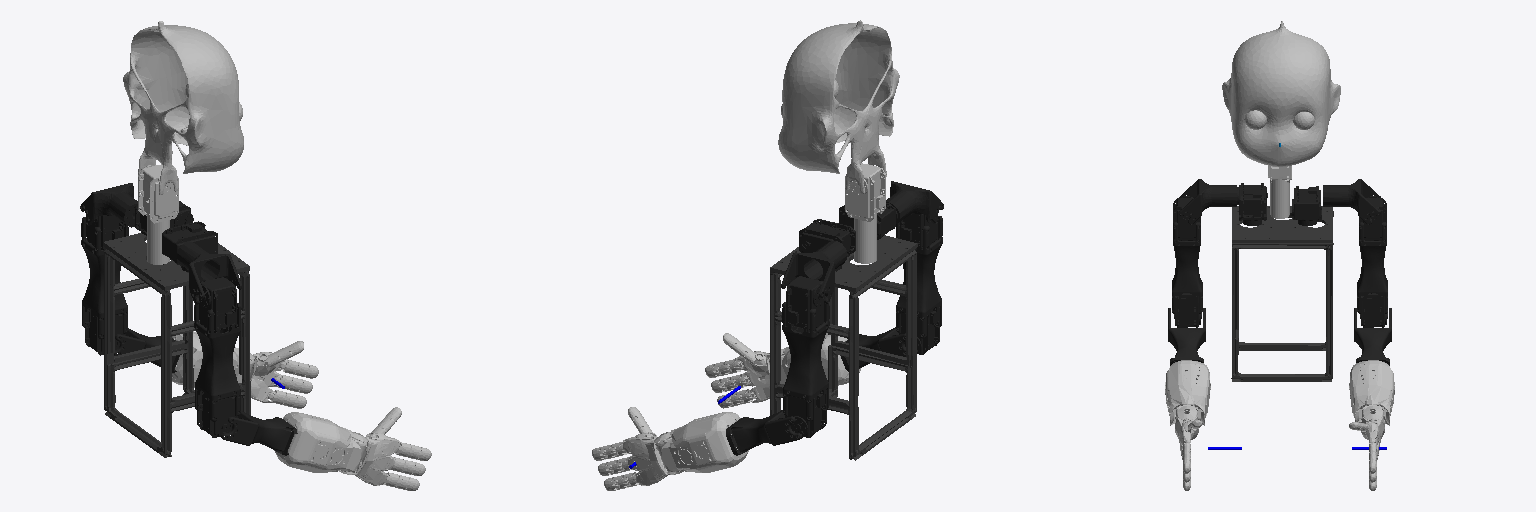
robot.urdf — nico_upper_rh6d:
<?xml version="1.0" ?>
<!-- =================================================================================== -->
<!-- |    This document was manually created   and the meshes resized and repositioned | -->
<!-- |    EDITING THIS FILE BY HAND IS NOT RECOMMENDED                                 | -->
<!-- =================================================================================== -->
<!--
  Copyright (c) 2023, [author]
  All rights reserved.

  This work is licensed under the Creative Commons Attribution-NonCommercial-NoDerivs 3.0 Unported License.
  To view a copy of this license, visit http://creativecommons.org/licenses/by-nc-nd/3.0/ or send a letter to
  Creative Commons, 444 Castro Street, Suite 900, Mountain View, California, 94041, USA.
-->
<robot name="nico_upper_rh6d">
	<link name="world" />
	<link name="torso">
		<visual>
			<geometry>
				<mesh filename="mesh/torso.stl"/>
			</geometry>
			<origin rpy="0 0 0" xyz="0.0 0.0 0.0"/>
			<material name="torso_color">
				<color rgba="0.270588 0.270588 0.270588 1"/>
			</material>
		</visual>
		<inertial>
			<mass value="0.090439"/>
			<inertia ixx="0.00006" ixy="-0" ixz="-0" iyy="0.000056" iyz="-0.000001" izz="0.000019"/>
			<origin rpy="0 0 0" xyz="0 0.000266 0.050352"/>
		</inertial>

	</link>
	<joint name="world_to_base_link" type="fixed">
    	<parent link="world"/>
    	<child link="torso"/>
  	</joint>
    <link name="neck">
		<visual>
			<geometry>
				<mesh filename="mesh/neck.stl"/>
			</geometry>
			<origin rpy="0 0 0" xyz="0.0 0.0 0.0"/>
			<material name="neck_color">
				<color rgba="0.74902 0.74902 0.74902 1"/>
			</material>
		</visual>
		<collision>
			<geometry>
				<mesh filename="mesh/neck.stl"/>
			</geometry>
			<origin rpy="0 0 0" xyz="0.0 0.0 0.0"/>
		</collision>
		<inertial>
			<mass value="0.090439"/>
			<inertia ixx="0.00006" ixy="-0" ixz="-0" iyy="0.000056" iyz="-0.000001" izz="0.000019"/>
			<origin rpy="0 0 0" xyz="0 0.000266 0.050352"/>
		</inertial>
	</link>
	<joint name="head_z" type="revolute">
		<parent link="torso"/>
		<child link="neck"/>
		<origin rpy="0 0 0" xyz="-0.025 0.000 0.23"/>
		<axis xyz="0 0 1"/>
		<limit effort="30" lower="-1.5707" upper="1.5707" velocity="1"/>
	</joint>
	<link name="head">
		<visual>
			<geometry>
				<mesh filename="mesh/head.stl"/>
			</geometry>
			<origin rpy="0 0 0" xyz="0 0 0"/>
			<material name="head_color">
				<color rgba="0.74902 0.74902 0.74902 1"/>
			</material>
		</visual>
		<collision>
			<geometry>
				<mesh filename="mesh/head.stl"/>
			</geometry>
			<origin rpy="0 0 0" xyz="0 0 0"/>
		</collision>
		<inertial>
			<mass value="0.294137"/>
			<inertia ixx="0.001424" ixy="-0" ixz="0.000083" iyy="0.00159" iyz="-0.000002" izz="0.001485"/>
			<origin rpy="0 0 0" xyz="0.01525 -0.023771 0.09423"/>
		</inertial>
	</link>
	<joint name="head_y" type="revolute">
		<parent link="neck"/>
		<child link="head"/>
		<origin rpy="0 0 0" xyz="0 0.0 0.105"/>
		<axis xyz="0 -1 0"/>
		<limit effort="30" lower="-0.8726" upper="0.4363" velocity="1"/>
	</joint>
	<link name="sight">
    	<visual>
      		<origin rpy="0 1.67 0" xyz="0.1 0.0 0.06"/>
      		<geometry>
        		<cylinder radius="0.001" length = "0.03"/>
      		</geometry>
    	</visual>
		<inertial>
			<mass value="0.000009"/>
			<inertia ixx="0" ixy="0" ixz="-0" iyy="0" iyz="0" izz="0"/>
			<origin rpy="0 0 0" xyz="0.005409 0.000556 -0.005751"/>
		</inertial>
  	</link>
	<joint name="eyesight" type="fixed">
		<parent link="head"/>
		<child link="sight"/>
		<origin rpy="0 0 0" xyz="0 0.0 0.0"/>
		<axis xyz="0 0 0"/>
		<limit effort="30" lower="-0.8726" upper="0.4363" velocity="1"/>
	</joint>
	
    <!-- ====RIGHT ARM=== -->
	<link name="right_shoulder">
		<visual>
			<geometry>
				<mesh filename="mesh/right_shoulder.stl"/>
			</geometry>
			<origin rpy="0 0 0" xyz="0 0 0"/>
			<material name="right_shoulder_color">
				<color rgba="0.176471 0.176471 0.176471 1"/>
			</material>
		</visual>
		<collision>
			<geometry>
				<mesh filename="mesh/right_shoulder.stl"/>
			</geometry>
			<origin rpy="0 0 0" xyz="0 0 0"/>
		</collision>
		<inertial>
			<mass value="0.084038"/>
			<inertia ixx="0.000026" ixy="-0.000001" ixz="-0.000002" iyy="0.000034" iyz="-0" izz="0.000033"/>
			<origin rpy="0 0 0" xyz="0.005637 0.000876 0.033153"/>
		</inertial>
	</link>
	<joint name="r_shoulder_z" type="revolute">
		<parent link="torso"/>
		<child link="right_shoulder"/>
		<origin rpy="0 0 0" xyz="0.000 -0.040 0.23"/>
		<axis xyz="0 0 1"/>
		<limit effort="30" lower="-0.4363" upper="1.3963" velocity="1"/>
	</joint>
	<link name="right_collarbone">
		<visual>
			<geometry>
				<mesh filename="mesh/right_collar.stl"/>
			</geometry>
			<origin rpy="0 0 0" xyz="0 0 0"/>
			<material name="right_collarbone_color">
				<color rgba="0.176471 0.176471 0.176471 1"/>
			</material>
		</visual>
		<collision>
			<geometry>
				<mesh filename="mesh/right_collar.stl"/>
			</geometry>
			<origin rpy="0 0 0" xyz="0 0 0"/>
		</collision>
		<inertial>
			<mass value="0.024811"/>
			<inertia ixx="0.000014" ixy="-0" ixz="0" iyy="0.000011" iyz="-0.000001" izz="0.000019"/>
			<origin rpy="0 0 0" xyz="-0 -0.041345 -0.002364"/>
		</inertial>
	</link>
	<joint name="r_shoulder_y" type="revolute">
		<parent link="right_shoulder"/>
		<child link="right_collarbone"/>
		<origin rpy="0 0 0" xyz="-0.021 -0.023 0.033"/>
		<axis xyz="0 -1 0"/>
		<limit effort="30" lower="-1.5707" upper="3.1416" velocity="1"/>
	</joint>
	<link name="right_upper_arm">
		<visual>
			<geometry>
				<mesh filename="mesh/right_upper_arm.stl"/>
			</geometry>
			<origin rpy="0 0 0" xyz="0 0 0"/>
			<material name="right_upper_arm_color">
				<color rgba="0.176471 0.176471 0.176471 1"/>
			</material>
		</visual>
		<collision>
			<geometry>
				<mesh filename="mesh/right_upper_arm.stl"/>
			</geometry>
			<origin rpy="0 0 0" xyz="0 0 0"/>
		</collision>
		<inertial>
			<mass value="0.189729"/>
			<inertia ixx="0.000851" ixy="0" ixz="0" iyy="0.000851" iyz="-0.000005" izz="0.000048"/>
			<origin rpy="0 0 0" xyz="-0.02306 -0.000321 -0.0866"/>
		</inertial>
	</link>
	<joint name="r_arm_x" type="revolute">
		<parent link="right_collarbone"/>
		<child link="right_upper_arm"/>
		<origin rpy="0 0 0" xyz="0.00 -0.073 -0.023"/>
		<axis xyz="-1 0 0"/>
		<limit effort="30" lower="0" upper="1.2217" velocity="1"/>
	</joint>
	<link name="right_lower_arm">
		<visual>
			<geometry>
				<mesh filename="mesh/right_lower_arm.stl"/>
			</geometry>
			<origin rpy="0 0 0" xyz="0 0 0"/>
			<material name="right_lower_arm_color">
				<color rgba="0.176471 0.176471 0.176471 1"/>
			</material>
		</visual>
		<collision>
			<geometry>
				<mesh filename="mesh/right_lower_arm.stl"/>
			</geometry>
			<origin rpy="0 0 0" xyz="0 0 0"/>
		</collision>
		<inertial>
			<mass value="0.076793"/>
			<inertia ixx="0.000104" ixy="-0" ixz="-0" iyy="0.000095" iyz="-0.000002" izz="0.000021"/>
			<origin rpy="0 0 0" xyz="0 0.022485 -0.081055"/>
		</inertial>
	</link>
	<joint name="r_elbow_y" type="revolute">
		<parent link="right_upper_arm"/>
		<child link="right_lower_arm"/>
		<origin rpy="0 3.14 0" xyz="0.0 0 -0.17"/>
		<axis xyz="0 1 0"/>
		<limit effort="30" lower="0.8726" upper="3.1416" velocity="1"/>
	</joint>
	<link name="right_wrist">
		<visual>
			<geometry>
				<mesh filename="mesh/right_wrist.stl"/>
			</geometry>
			<origin rpy="0 0 0" xyz="0 0 0"/>
			<material name="right_wrist_color">
				<color rgba="0.74902 0.74902 0.74902 1"/>
			</material>
		</visual>
		<collision>
			<geometry>
				<mesh filename="mesh/right_wrist.stl"/>
			</geometry>
			<origin rpy="0 0 0" xyz="0 0 0"/>
		</collision>
		<inertial>
			<mass value="0.028397"/>
			<inertia ixx="0.000043" ixy="-0" ixz="0.000004" iyy="0.000058" iyz="-0.000007" izz="0.000029"/>
			<origin rpy="0 0 0" xyz="0.000031 -0.011056 -0.0675"/>
		</inertial>
	</link>
	<joint name="r_wrist_z" type="revolute">
		<parent link="right_lower_arm"/>
		<child link="right_wrist"/>
		<origin rpy="0 0 1.5707" xyz="0 0 -0.105"/>
		<axis xyz="0 0 1"/>
		<limit effort="30" lower="-1.5707" upper="1.5707" velocity="1"/>
	</joint>
	<link name="right_palm"> <!--gripper-->
		<visual>
			<geometry>
				<mesh filename="mesh/right_palm.stl"/>
			</geometry>
			<origin rpy="0 0 0" xyz="0 0 0"/>
			<material name="gripper_color">
				<color rgba="0.74902 0.74902 0.74902 1"/>
			</material>
		</visual>
		<collision>
			<geometry>
				<mesh filename="mesh/right_palm.stl"/>
			</geometry>
			<origin rpy="0 0 0" xyz="0 0 0"/>
		</collision>
		<inertial>
			<mass value="0.005332"/>
			<inertia ixx="0.000015" ixy="0.000001" ixz="-0.000004" iyy="0.000017" iyz="0.000004" izz="0.000006"/>
			<origin rpy="0 0 0" xyz="-0.029511 0.002253 -0.023968"/>
		</inertial>
	</link>
	<joint name="r_wrist_x" type="revolute">
		<parent link="right_wrist"/>
		<child link="right_palm"/>
		<origin rpy="0 0 0" xyz="0 0 -0.10"/>
		<axis xyz="0 -1 0"/>
		<limit effort="30" lower="-0.785398163" upper="0.785398163" velocity="1"/>
	</joint>
	<link name="endeffector">
    	<visual>
      		<origin rpy="0 0 0" xyz="0 0.0 -0.025"/> <!-- Updated position -->
      		<geometry>
        		<cylinder length="0.05" radius="0.002"/>
      		</geometry>
			<material name="blue">
      			<color rgba="0 0 1 0.5"/> <!-- RGBA: Red Green Blue Alpha (opacity) -->
    		</material>
    	</visual>
        <inertial>
		    <mass value="0.0000332"/>
		    <inertia ixx="0.000015" ixy="0.000001" ixz="-0.000004" iyy="0.000017" iyz="0.000004" izz="0.000006"/>
		</inertial>
  	</link>
	<joint name="endeffector_joint" type="fixed">
    	<parent link="right_palm"/>
    	<child link="endeffector"/>
    	<origin rpy="3.14 1.57 0" xyz="0.03 0.0 -0.05"/>
	</joint>
	<link name="r_middlefinger">
		<visual>
			<geometry>
				<mesh filename="mesh/finger.stl"/>
			</geometry>
			<origin rpy="0 0 0" xyz="0 0 0"/>
			<material name="finger_color">
				<color rgba="0.74902 0.74902 0.74902 1"/>
			</material>
		</visual>
		<collision>
			<geometry>
				<mesh filename="mesh/finger.stl"/>
			</geometry>
			<origin rpy="0 0 0" xyz="0 0 0"/>
		</collision>
		<inertial>
			<mass value="0.000009"/>
			<inertia ixx="0" ixy="0" ixz="-0" iyy="0" iyz="0" izz="0"/>
			<origin rpy="0 0 0" xyz="0.005409 0.000556 -0.005751"/>
		</inertial>
	</link>
	<link name="r_littlefinger">
		<visual>
			<geometry>
				<mesh filename="mesh/finger.stl"/>
			</geometry>
			<origin rpy="0 0 0" xyz="0 0 0"/>
			<material name="finger_color">
				<color rgba="0.74902 0.74902 0.74902 1"/>
			</material>
		</visual>
		<collision>
			<geometry>
				<mesh filename="mesh/finger.stl"/>
			</geometry>
			<origin rpy="0 0 0" xyz="0 0 0"/>
		</collision>
		<inertial>
			<mass value="0.000009"/>
			<inertia ixx="0" ixy="0" ixz="-0" iyy="0" iyz="0" izz="0"/>
			<origin rpy="0 0 0" xyz="0.005409 0.000556 -0.005751"/>
		</inertial>
	</link>
	<link name="r_indexfinger"> <!--indexfinder-->
		<visual>
			<geometry>
				<mesh filename="mesh/finger.stl"/>
			</geometry>
			<origin rpy="0 0 0" xyz="0 0 0"/>
			<material name="finger_color">
				<color rgba="0.74902 0.74902 0.74902 1"/>
			</material>
		</visual>
		<collision>
			<geometry>
				<mesh filename="mesh/finger.stl"/>
			</geometry>
			<origin rpy="0 0 0" xyz="0 0 0"/>
		</collision>
		<inertial>
			<mass value="0.000009"/>
			<inertia ixx="0" ixy="0" ixz="-0" iyy="0" iyz="0" izz="0"/>
			<origin rpy="0 0 0" xyz="0.005409 0.000556 -0.005751"/>
		</inertial>
	</link>
	<joint name="r_middlefingers_x" type="revolute">
		<parent link="right_palm"/>
		<child link="r_middlefinger"/>
		<origin rpy="0 0 0" xyz="0 0 -0.06"/>
		<axis xyz="0 1 0"/>
		<limit effort="30" lower="-2.57" upper="0" velocity="1"/>
	</joint>
	<joint name="r_litlefinger_x" type="revolute">
		<parent link="right_palm"/>
		<child link="r_littlefinger"/>
		<origin rpy="0 0 0" xyz="0.00 0.02 -0.06"/>
		<axis xyz="0 1 0"/>
		<limit effort="30" lower="-2.57" upper="0" velocity="1"/>
	</joint>
	<joint name="r_indexfinger_x" type="revolute">
		<parent link="right_palm"/>
		<child link="r_indexfinger"/>
		<origin rpy="0 0 0" xyz="0.00 -0.02 -0.06"/>
		<axis xyz="0 1 0"/>
		<limit effort="30" lower="-2.57" upper="0" velocity="1"/>
	</joint>
    <link name="right_thumb">
		<visual>
			<geometry>
				<mesh filename="mesh/finger.stl"/>
			</geometry>
			<origin rpy="0 0 0" xyz="0 0 0"/>
			<material name="finger_color">
				<color rgba="0.74902 0.74902 0.74902 1"/>
			</material>
		</visual>
		<collision>
			<geometry>
				<mesh filename="mesh/finger.stl"/>
			</geometry>
			<origin rpy="0 0 0" xyz="0 0 0"/>
		</collision>
		<inertial>
			<mass value="0.000009"/>
			<inertia ixx="0" ixy="0" ixz="-0" iyy="0" iyz="0" izz="0"/>
			<origin rpy="0 0 0" xyz="0.005409 0.000556 -0.005751"/>
		</inertial>
	</link>
    
    <link name="thumb_intermediate_link">
        <inertial>
		    <mass value="0.0000332"/>
		    <inertia ixx="0.000015" ixy="0.000001" ixz="-0.000004" iyy="0.000017" iyz="0.000004" izz="0.000006"/>
		</inertial>
    </link>
    <joint name="r_thumb_x" type="revolute">
        <parent link="right_palm"/>
        <child link="thumb_intermediate_link"/>
        <origin rpy="-0.3 1 1.4" xyz="0.008 -0.020 -0.028"/>
        <axis xyz="2 1 0"/>
        <limit effort="30" lower="-2.57" upper="0" velocity="1"/>
    </joint>

    <joint name="r_thumb_z" type="revolute">
        <parent link="thumb_intermediate_link"/>
        <child link="right_thumb"/>
        <origin rpy="0 0 0" xyz="0 0 0"/>
        <axis xyz="0 1 0"/>
        <limit effort="30" lower="-2.57" upper="0" velocity="1"/>
    </joint>
    <!-- ====LEFT ARM=== -->
    <link name="left_shoulder">
		<visual>
			<geometry>
				<mesh filename="mesh/left_shoulder.stl"/>
			</geometry>
			<origin rpy="0 0 0" xyz="0 0 0"/>
			<material name="left_shoulder_color">
				<color rgba="0.176471 0.176471 0.176471 1"/>
			</material>
		</visual>
		<collision>
			<geometry>
				<mesh filename="mesh/left_shoulder.stl"/>
			</geometry>
			<origin rpy="0 0 0" xyz="0 0 0"/>
		</collision>
		<inertial>
			<mass value="0.084038"/>
			<inertia ixx="0.000026" ixy="-0.000001" ixz="-0.000002" iyy="0.000034" iyz="-0" izz="0.000033"/>
			<origin rpy="0 0 0" xyz="0.005637 0.000876 0.033153"/>
		</inertial>
	</link>
	<joint name="l_shoulder_z" type="revolute">
		<parent link="torso"/>
		<child link="left_shoulder"/>
		<origin rpy="0 0 0" xyz="0.000 0.040 0.23"/>
		<axis xyz="0 0 -1"/>
		<limit effort="30" lower="-0.4363" upper="1.3963" velocity="1"/>
	</joint>
	<link name="left_collarbone">
		<visual>
			<geometry>
				<mesh filename="mesh/left_collar.stl"/>
			</geometry>
			<origin rpy="0 0 0" xyz="0 0 0"/>
			<material name="right_collarbone_color">
				<color rgba="0.176471 0.176471 0.176471 1"/>
			</material>
		</visual>
		<collision>
			<geometry>
				<mesh filename="mesh/left_collar.stl"/>
			</geometry>
			<origin rpy="0 0 0" xyz="0 0 0"/>
		</collision>
		<inertial>
			<mass value="0.024811"/>
			<inertia ixx="0.000014" ixy="-0" ixz="0" iyy="0.000011" iyz="-0.000001" izz="0.000019"/>
			<origin rpy="0 0 0" xyz="-0 -0.041345 -0.002364"/>
		</inertial>
	</link>
	<joint name="l_shoulder_y" type="revolute">
		<parent link="left_shoulder"/>
		<child link="left_collarbone"/>
		<origin rpy="0 0 0" xyz="-0.021 0.023 0.033"/>
		<axis xyz="0 -1 0"/>
		<limit effort="30" lower="-1.5707" upper="3.1416" velocity="1"/>
	</joint>
	<link name="left_upper_arm">
		<visual>
			<geometry>
				<mesh filename="mesh/right_upper_arm.stl"/>
			</geometry>
			<origin rpy="0 0 0" xyz="0 0 0"/>
			<material name="right_upper_arm_color">
				<color rgba="0.176471 0.176471 0.176471 1"/>
			</material>
		</visual>
		<collision>
			<geometry>
				<mesh filename="mesh/right_upper_arm.stl"/>
			</geometry>
			<origin rpy="0 0 0" xyz="0 0 0"/>
		</collision>
		<inertial>
			<mass value="0.189729"/>
			<inertia ixx="0.000851" ixy="0" ixz="0" iyy="0.000851" iyz="-0.000005" izz="0.000048"/>
			<origin rpy="0 0 0" xyz="-0.02306 -0.000321 -0.0866"/>
		</inertial>
	</link>
	<joint name="l_arm_x" type="revolute">
		<parent link="left_collarbone"/>
		<child link="left_upper_arm"/>
		<origin rpy="0 0 0" xyz="0.00 0.073 -0.023"/>
		<axis xyz="1 0 0"/>
		<limit effort="30" lower="0" upper="1.2217" velocity="1"/>
	</joint>
	<link name="left_lower_arm">
		<visual>
			<geometry>
				<mesh filename="mesh/right_lower_arm.stl"/>
			</geometry>
			<origin rpy="0 0 0" xyz="0 0 0"/>
			<material name="right_lower_arm_color">
				<color rgba="0.176471 0.176471 0.176471 1"/>
			</material>
		</visual>
		<collision>
			<geometry>
				<mesh filename="mesh/right_lower_arm.stl"/>
			</geometry>
			<origin rpy="0 0 0" xyz="0 0 0"/>
		</collision>
		<inertial>
			<mass value="0.076793"/>
			<inertia ixx="0.000104" ixy="-0" ixz="-0" iyy="0.000095" iyz="-0.000002" izz="0.000021"/>
			<origin rpy="0 0 0" xyz="0 0.022485 -0.081055"/>
		</inertial>
	</link>
	<joint name="l_elbow_y" type="revolute">
		<parent link="left_upper_arm"/>
		<child link="left_lower_arm"/>
		<origin rpy="0 3.14 0" xyz="0.0 0 -0.17"/>
		<axis xyz="0 1 0"/>
		<limit effort="30" lower="0.8726" upper="3.1416" velocity="1"/>
	</joint>
	<link name="left_wrist">
		<visual>
			<geometry>
				<mesh filename="mesh/left_wrist.stl"/>
			</geometry>
			<origin rpy="0 0 0" xyz="0 0 0"/>
			<material name="right_wrist_color">
				<color rgba="0.74902 0.74902 0.74902 1"/>
			</material>
		</visual>
		<collision>
			<geometry>
				<mesh filename="mesh/left_wrist.stl"/>
			</geometry>
			<origin rpy="0 0 0" xyz="0 0 0"/>
		</collision>
		<inertial>
			<mass value="0.028397"/>
			<inertia ixx="0.000043" ixy="-0" ixz="0.000004" iyy="0.000058" iyz="-0.000007" izz="0.000029"/>
			<origin rpy="0 0 0" xyz="0.000031 -0.011056 -0.0675"/>
		</inertial>
	</link>
	<joint name="l_wrist_z" type="revolute">
		<parent link="left_lower_arm"/>
		<child link="left_wrist"/>
		<origin rpy="0 0 1.5707" xyz="0 0 -0.105"/>
		<axis xyz="0 0 -1"/>
		<limit effort="30" lower="-1.5707" upper="1.5707" velocity="1"/>
	</joint>
	<link name="left_palm"> <!--gripper-->
		<visual>
			<geometry>
				<mesh filename="mesh/left_palm.stl"/>
			</geometry>
			<origin rpy="0 0 0" xyz="0 0 0"/>
			<material name="gripper_color">
				<color rgba="0.74902 0.74902 0.74902 1"/>
			</material>
		</visual>
		<collision>
			<geometry>
				<mesh filename="mesh/left_palm.stl"/>
			</geometry>
			<origin rpy="0 0 0" xyz="0 0 0"/>
		</collision>
		<inertial>
			<mass value="0.005332"/>
			<inertia ixx="0.000015" ixy="0.000001" ixz="-0.000004" iyy="0.000017" iyz="0.000004" izz="0.000006"/>
			<origin rpy="0 0 0" xyz="-0.029511 0.002253 -0.023968"/>
		</inertial>
	</link>
	<joint name="l_wrist_x" type="revolute">
		<parent link="left_wrist"/>
		<child link="left_palm"/>
		<origin rpy="0 0 0" xyz="0 0 -0.10"/>
		<axis xyz="0 1 0"/>
		<limit effort="30" lower="-.78" upper="0.78" velocity="1"/>
	</joint>
    <link name="endeffectol">
		<visual>
      		<origin rpy="0 0 0" xyz="0 0.0 0.025"/> <!-- Updated position -->
      		<geometry>
        		<cylinder length="0.05" radius="0.002"/>
      		</geometry>
			<material name="blue">
      			<color rgba="0 0 1 0.5"/> <!-- RGBA: Red Green Blue Alpha (opacity) -->
    		</material>
    	</visual>
        <inertial>
		    <mass value="0.0000332"/>
		    <inertia ixx="0.000015" ixy="0.000001" ixz="-0.000004" iyy="0.000017" iyz="0.000004" izz="0.000006"/>
		</inertial>
  	</link>
	<joint name="endeffectol_joint" type="fixed">
    	<parent link="left_palm"/>
    	<child link="endeffectol"/>
    	<origin rpy="3.14 1.57 -3.14" xyz="-0.03 0.0 -0.05"/>
	</joint>
	<link name="l_middlefinger">
		<visual>
			<geometry>
				<mesh filename="mesh/finger.stl"/>
			</geometry>
			<origin rpy="0 0 0" xyz="0 0 0"/>
			<material name="finger_color">
				<color rgba="0.74902 0.74902 0.74902 1"/>
			</material>
		</visual>
		<collision>
			<geometry>
				<mesh filename="mesh/finger.stl"/>
			</geometry>
			<origin rpy="0 0 0" xyz="0 0 0"/>
		</collision>
		<inertial>
			<mass value="0.000009"/>
			<inertia ixx="0" ixy="0" ixz="-0" iyy="0" iyz="0" izz="0"/>
			<origin rpy="0 0 0" xyz="0.005409 0.000556 -0.005751"/>
		</inertial>
	</link>
	<link name="l_littlefinger">
		<visual>
			<geometry>
				<mesh filename="mesh/finger.stl"/>
			</geometry>
			<origin rpy="0 0 0" xyz="0 0 0"/>
			<material name="finger_color">
				<color rgba="0.74902 0.74902 0.74902 1"/>
			</material>
		</visual>
		<collision>
			<geometry>
				<mesh filename="mesh/finger.stl"/>
			</geometry>
			<origin rpy="0 0 0" xyz="0 0 0"/>
		</collision>
		<inertial>
			<mass value="0.000009"/>
			<inertia ixx="0" ixy="0" ixz="-0" iyy="0" iyz="0" izz="0"/>
			<origin rpy="0 0 0" xyz="0.005409 0.000556 -0.005751"/>
		</inertial>
	</link>
	<link name="l_indexfinger"> <!--indexfinder-->
		<visual>
			<geometry>
				<mesh filename="mesh/finger.stl"/>
			</geometry>
			<origin rpy="0 0 0" xyz="0 0 0"/>
			<material name="finger_color">
				<color rgba="0.74902 0.74902 0.74902 1"/>
			</material>
		</visual>
		<collision>
			<geometry>
				<mesh filename="mesh/finger.stl"/>
			</geometry>
			<origin rpy="0 0 0" xyz="0 0 0"/>
		</collision>
		<inertial>
			<mass value="0.000009"/>
			<inertia ixx="0" ixy="0" ixz="-0" iyy="0" iyz="0" izz="0"/>
			<origin rpy="0 0 0" xyz="0.005409 0.000556 -0.005751"/>
		</inertial>
	</link>
	<joint name="l_middlefingers_x" type="revolute">
		<parent link="left_palm"/>
		<child link="l_middlefinger"/>
		<origin rpy="0 0 0" xyz="0 0 -0.06"/>
		<axis xyz="0 1 0"/>
		<limit effort="30" lower="-2.57" upper="0" velocity="1"/>
	</joint>
	<joint name="l_litlefinger_x" type="revolute">
		<parent link="left_palm"/>
		<child link="l_littlefinger"/>
		<origin rpy="0 0 0" xyz="0.00 0.02 -0.06"/>
		<axis xyz="0 1 0"/>
		<limit effort="30" lower="-2.57" upper="0" velocity="1"/>
	</joint>
	<joint name="l_indexfinger_x" type="revolute">
		<parent link="left_palm"/>
		<child link="l_indexfinger"/>
		<origin rpy="0 0 0" xyz="0.00 -0.02 -0.06"/>
		<axis xyz="0 1 0"/>
		<limit effort="30" lower="0" upper="2.57" velocity="1"/>
	</joint>
	<link name="left_thumb">
		<visual>
			<geometry>
				<mesh filename="mesh/finger.stl"/>
			</geometry>
			<origin rpy="0 0 0" xyz="0 0 0"/>
			<material name="finger_color">
				<color rgba="0.74902 0.74902 0.74902 1"/>
			</material>
		</visual>
		<collision>
			<geometry>
				<mesh filename="mesh/finger.stl"/>
			</geometry>
			<origin rpy="0 0 0" xyz="0 0 0"/>
		</collision>
		<inertial>
			<mass value="0.000009"/>
			<inertia ixx="0" ixy="0" ixz="-0" iyy="0" iyz="0" izz="0"/>
			<origin rpy="0 0 0" xyz="0.005409 0.000556 -0.005751"/>
		</inertial>
	</link>
    
    <link name="l_thumb_intermediate_link">
        <inertial>
		    <mass value="0.0000332"/>
		    <inertia ixx="0.000015" ixy="0.000001" ixz="-0.000004" iyy="0.000017" iyz="0.000004" izz="0.000006"/>
		</inertial>
    </link>
    <joint name="l_thumb_x" type="revolute">
        <parent link="left_palm"/>
        <child link="l_thumb_intermediate_link"/>
        <origin rpy="0.3 1 1.4" xyz="-0.008 -0.020 -0.028"/>
        <axis xyz="2 1 0"/>
        <limit effort="30" lower="-2.57" upper="0" velocity="1"/>
    </joint>

    <joint name="l_thumb_z" type="revolute">
        <parent link="l_thumb_intermediate_link"/>
        <child link="left_thumb"/>
        <origin rpy="0 0 0" xyz="0 0 0"/>
        <axis xyz="0 1 0"/>
        <limit effort="30" lower="-2.57" upper="0" velocity="1"/>
    </joint>
</robot>

--- What the picture shows (computed from the rendered views, not written in the file) ---
The picture shows the robot from 3 angles, left to right: view 1: azimuth 30°, elevation 25°; view 2: azimuth 150°, elevation 25°; view 3: azimuth 270°, elevation 25°; orthographic projection.
Model nico_upper_rh6d with 29 links and 28 joints (24 revolute, 4 fixed), rooted at world, posed joints at zero except 2 at the middle of their limits (r_elbow_y = 2.01, l_elbow_y = 2.01).
Visible links, largest first — view 1: head, torso, right_upper_arm, left_upper_arm, right_wrist, neck, right_collarbone, right_lower_arm, right_palm, left_collarbone, right_shoulder, left_palm (+3 smaller); view 2: head, torso, left_upper_arm, right_upper_arm, left_wrist, neck, left_lower_arm, left_collarbone, left_palm, right_collarbone, left_shoulder, right_palm (+3 smaller); view 3: head, torso, right_upper_arm, left_upper_arm, right_wrist, left_wrist, left_collarbone, right_collarbone, left_lower_arm, right_lower_arm, right_shoulder, neck (+3 smaller).
Link boxes in pixels (bbox=[...]): head: bbox=[123, 21, 243, 194]; torso: bbox=[103, 233, 250, 457]; right_upper_arm: bbox=[194, 277, 240, 437]; left_upper_arm: bbox=[81, 212, 128, 355]; right_wrist: bbox=[274, 412, 366, 472]; neck: bbox=[138, 164, 178, 264]; right_collarbone: bbox=[176, 242, 242, 304]; right_lower_arm: bbox=[221, 411, 297, 455]; right_palm: bbox=[338, 432, 400, 485]; left_collarbone: bbox=[80, 183, 137, 227]; right_shoulder: bbox=[162, 221, 217, 271]; left_palm: bbox=[250, 352, 288, 402]; head: bbox=[778, 20, 899, 193]; torso: bbox=[770, 235, 917, 460]; left_upper_arm: bbox=[782, 276, 829, 437]; right_upper_arm: bbox=[896, 212, 942, 354]; left_wrist: bbox=[655, 412, 748, 472]; neck: bbox=[845, 163, 885, 263]; left_lower_arm: bbox=[726, 410, 801, 455]; left_collarbone: bbox=[781, 241, 847, 303]; left_palm: bbox=[622, 432, 684, 485]; right_collarbone: bbox=[886, 181, 943, 223]; left_shoulder: bbox=[799, 219, 855, 270]; right_palm: bbox=[735, 349, 783, 402]; head: bbox=[1222, 21, 1340, 166]; torso: bbox=[1231, 206, 1333, 381]; right_upper_arm: bbox=[1172, 196, 1202, 327]; left_upper_arm: bbox=[1357, 196, 1387, 327]; right_wrist: bbox=[1165, 360, 1210, 425]; left_wrist: bbox=[1349, 360, 1394, 425]; left_collarbone: bbox=[1323, 179, 1380, 224]; right_collarbone: bbox=[1179, 179, 1236, 224]; left_lower_arm: bbox=[1354, 308, 1391, 365]; right_lower_arm: bbox=[1168, 308, 1205, 365]; right_shoulder: bbox=[1237, 183, 1267, 225]; neck: bbox=[1268, 166, 1291, 218].
Bounding box of the posed robot: 0.3329 × 0.3362 × 0.6327 m (x, y, z).
23 mesh visuals loaded from 14 distinct referenced files (14 binary STL).
